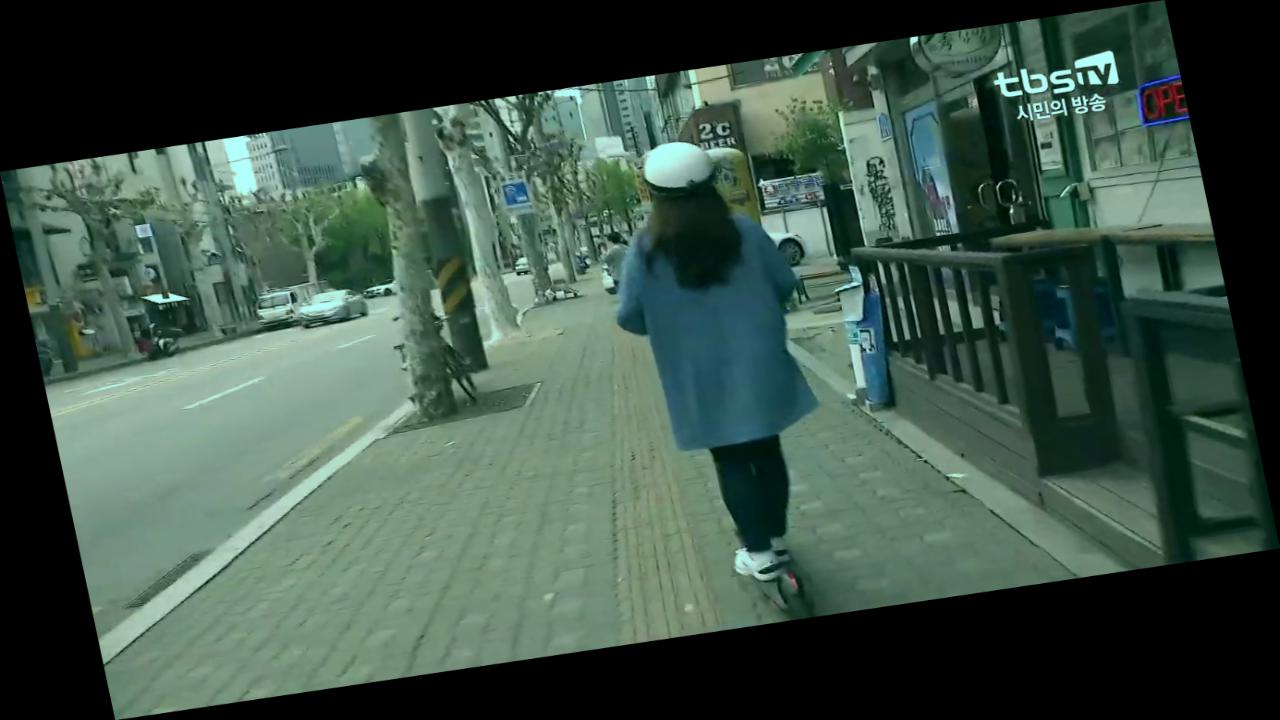helmet: (581, 126, 869, 636)
